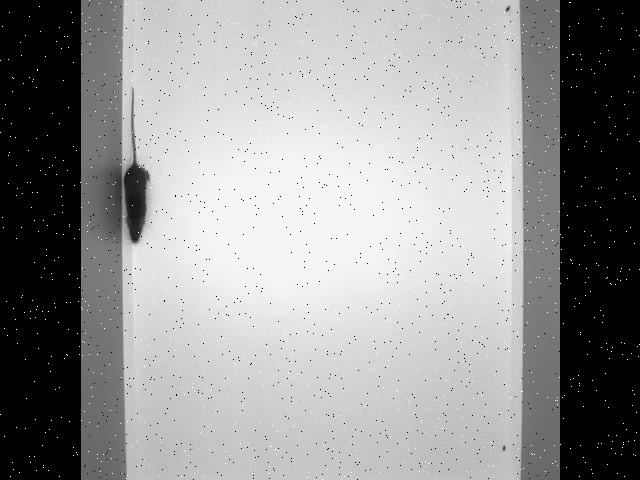Tikus: (120, 80, 152, 248)
